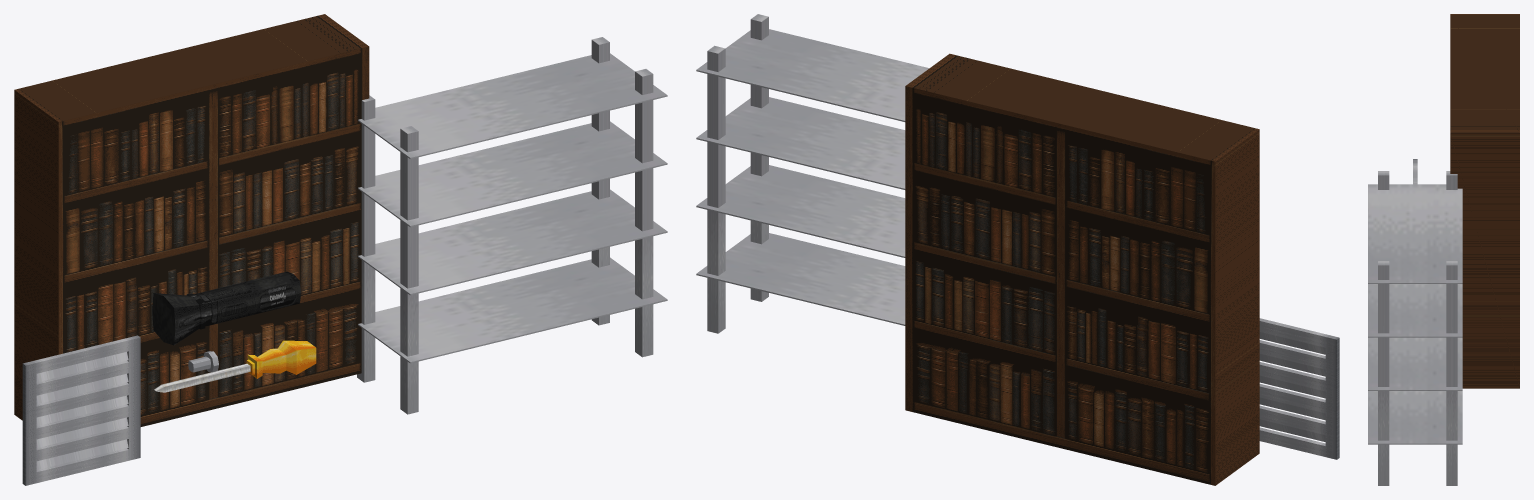
The model's file is puzzles.fbx.
The picture shows the model from 3 angles, left to right: view 1: azimuth 30°, elevation 25°; view 2: azimuth 150°, elevation 25°; view 3: azimuth 270°, elevation 25°; orthographic projection. The views are drawn at different scales.
Parts seen in each view (by area): view 1: estante livro, estante, vent, lanterna, fenda; view 2: estante livro, estante, vent; view 3: estante, estante livro.
Part boxes in pixels (x1,y1,x2,y2): estante livro: (14,14,369,426); estante: (357,37,667,414); vent: (22,335,140,485); lanterna: (152,271,301,345); fenda: (154,340,316,392); estante livro: (905,53,1259,485); estante: (696,14,929,333); vent: (1259,318,1339,459); estante: (1368,171,1462,485); estante livro: (1450,14,1519,388).
Size of the model in its own units: 1066 by 552 by 291.
